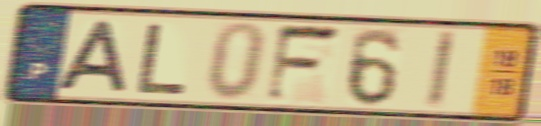0: (200, 19, 272, 105)
6: (347, 25, 404, 109)
A: (54, 18, 130, 95)
F: (263, 22, 345, 106)
I: (423, 27, 461, 112)
L: (133, 21, 191, 97)
